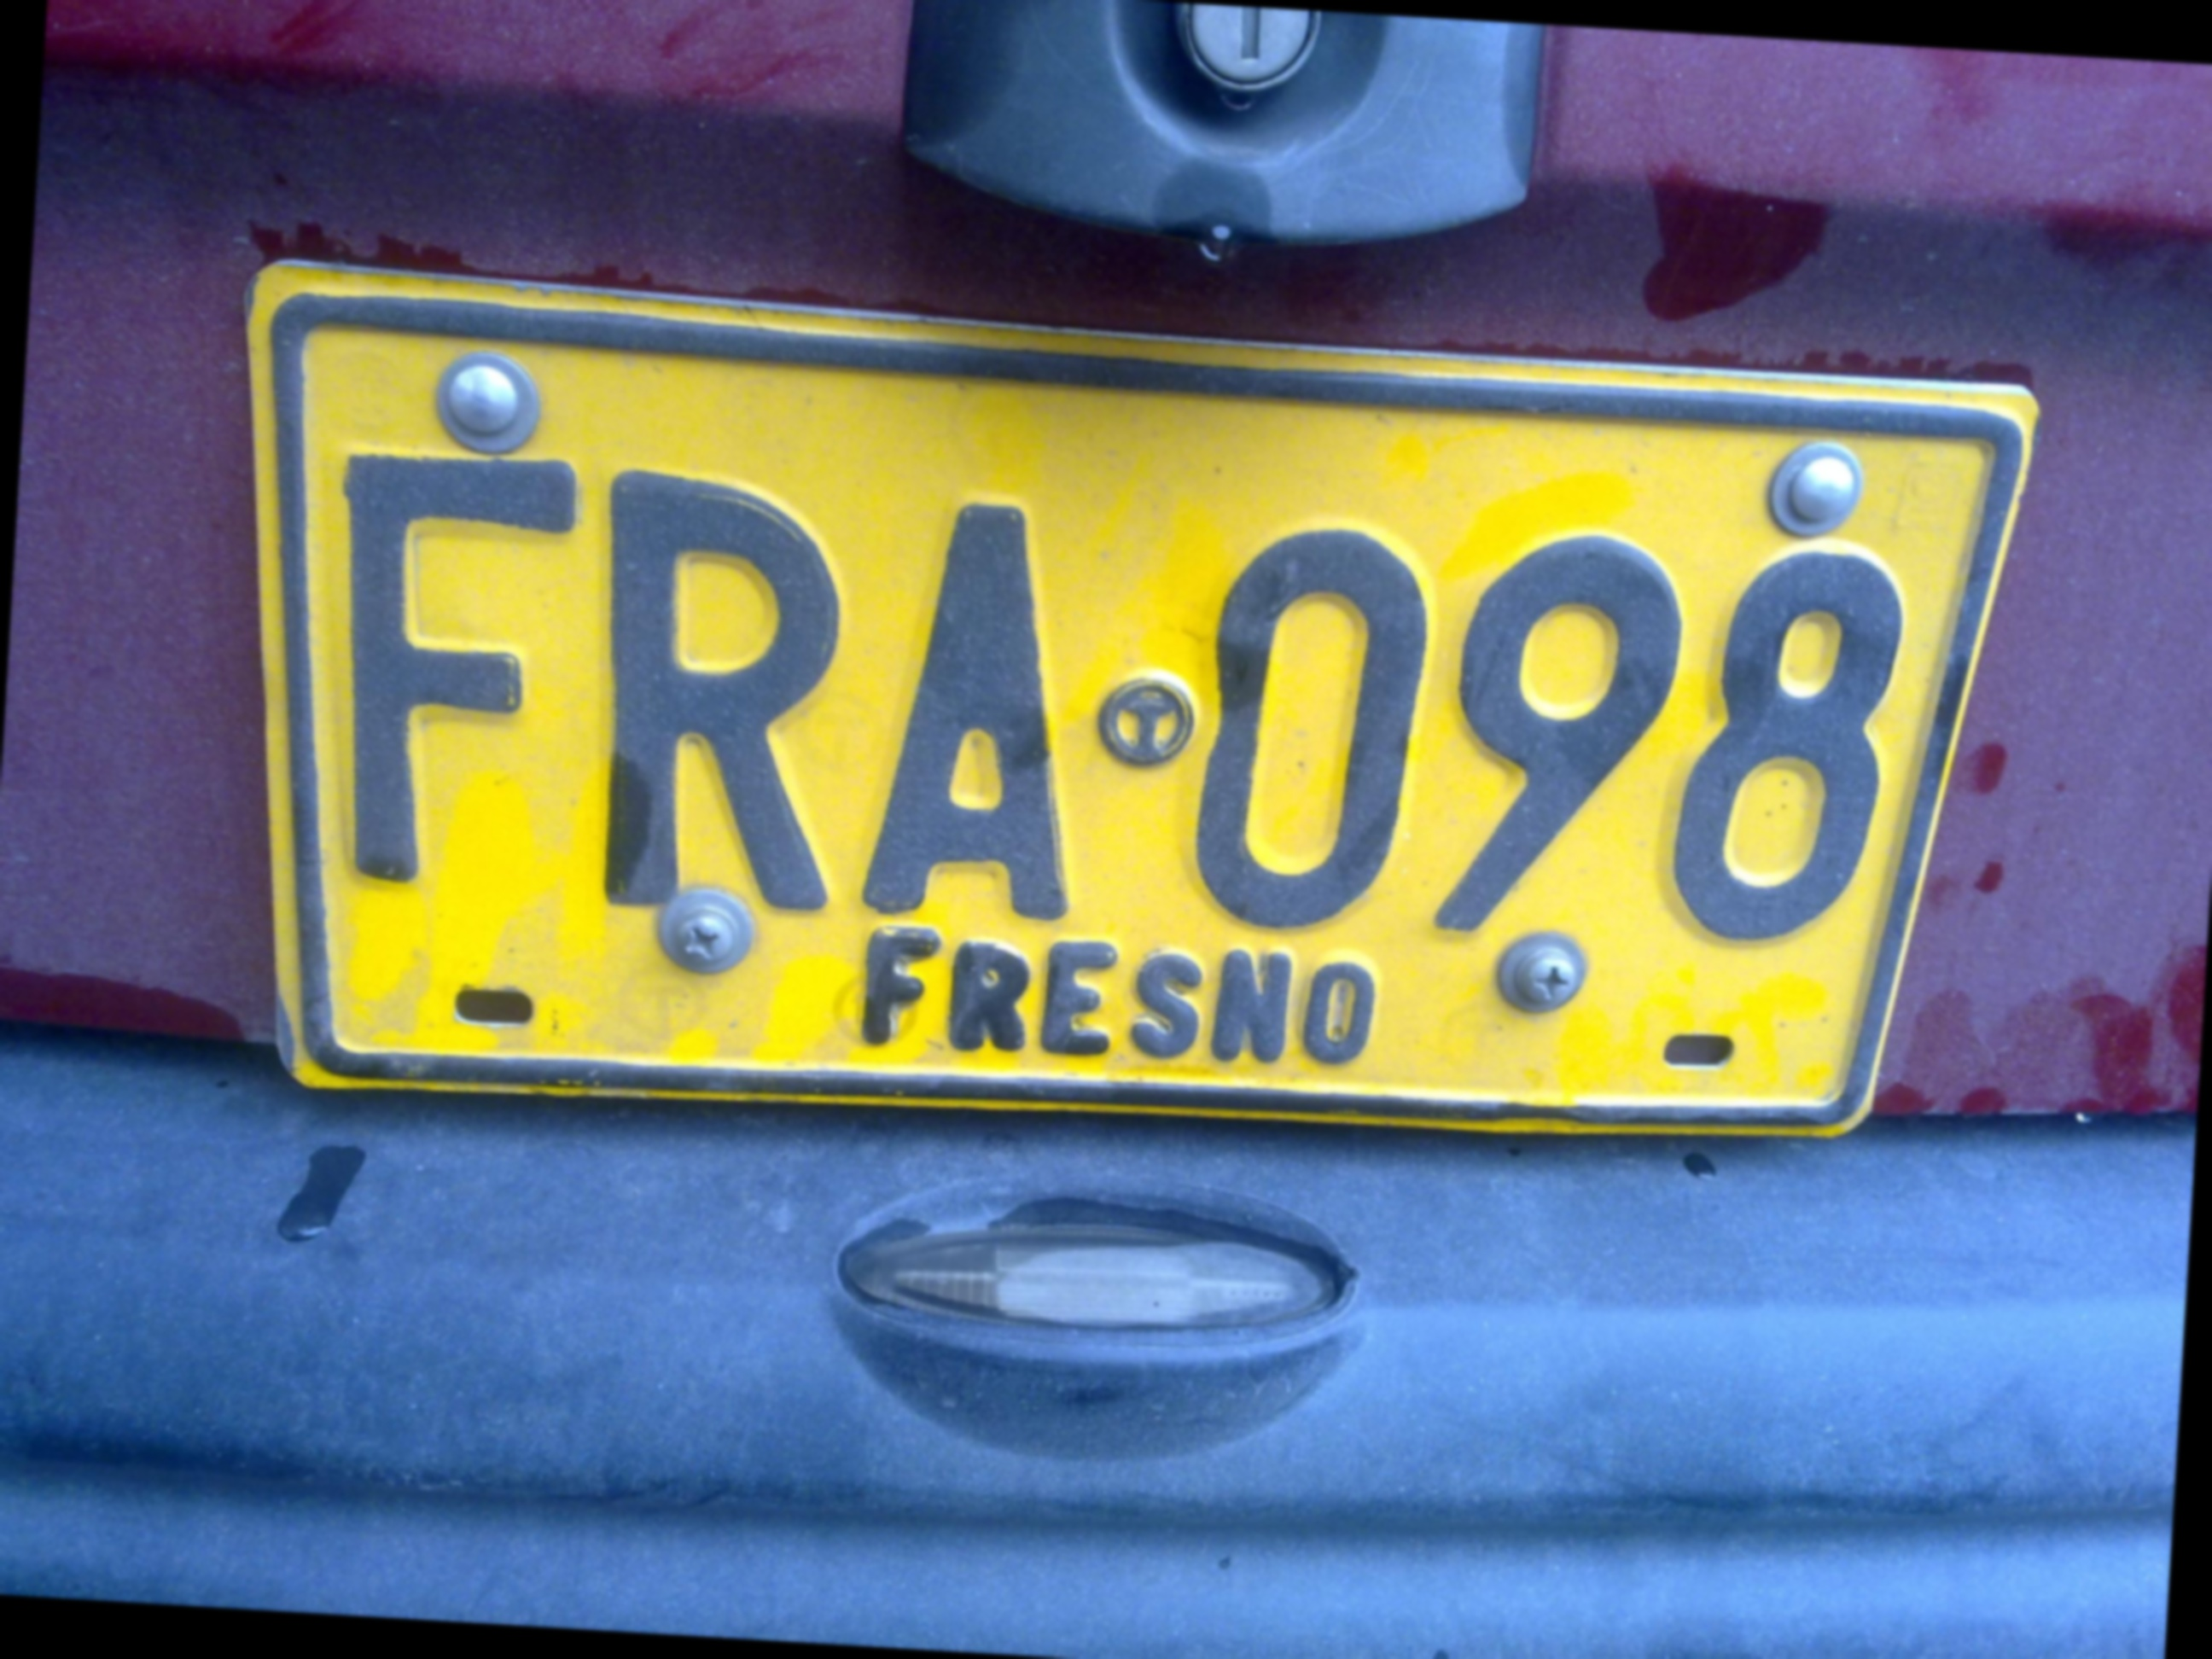placas: (188, 236, 2046, 1199)
